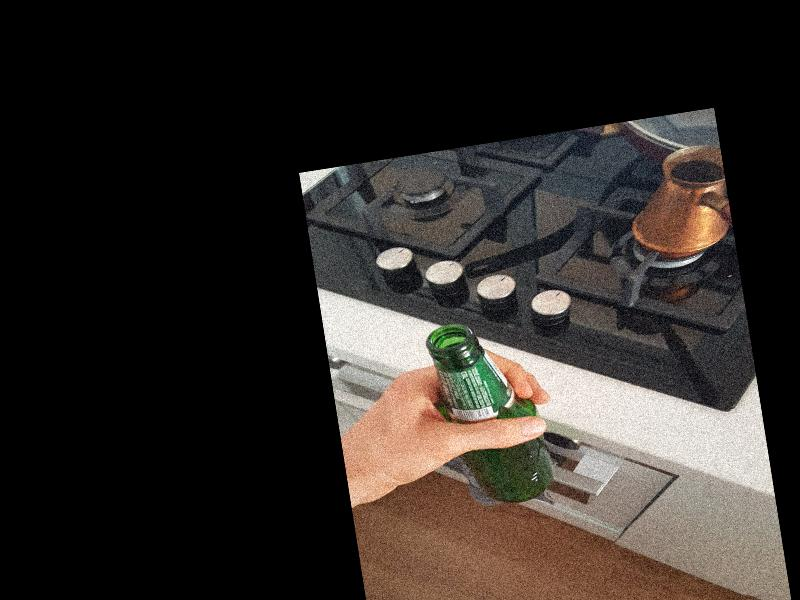Beer: (424, 312, 556, 513)
